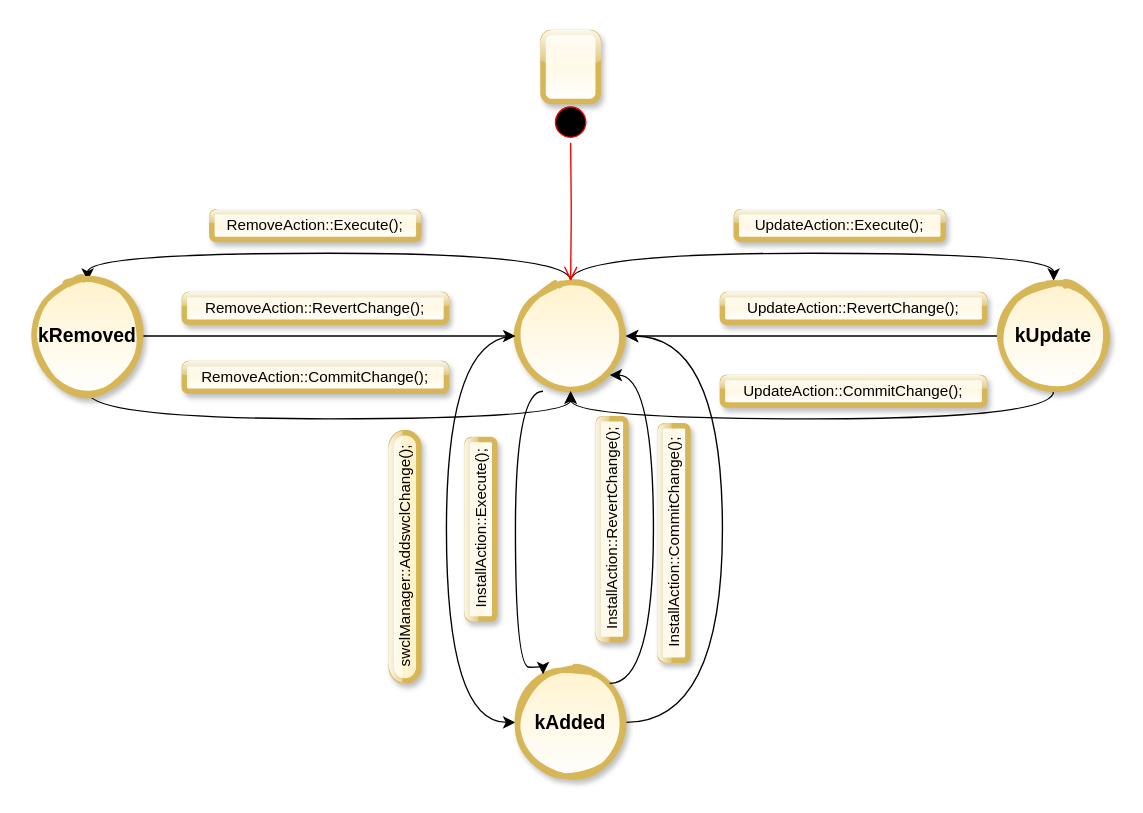
Image size: 1143x813. Some labels were removed from this diagram. The centre of each missing label's shape, as x and y in pixels:
"INIT" goes at point 571,68.
"kPresent" goes at point 571,337.
